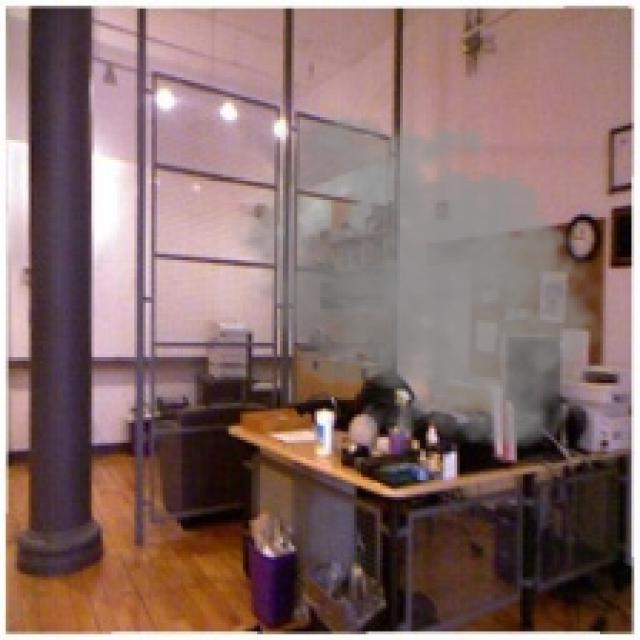Smoke: (217, 102, 614, 454)
